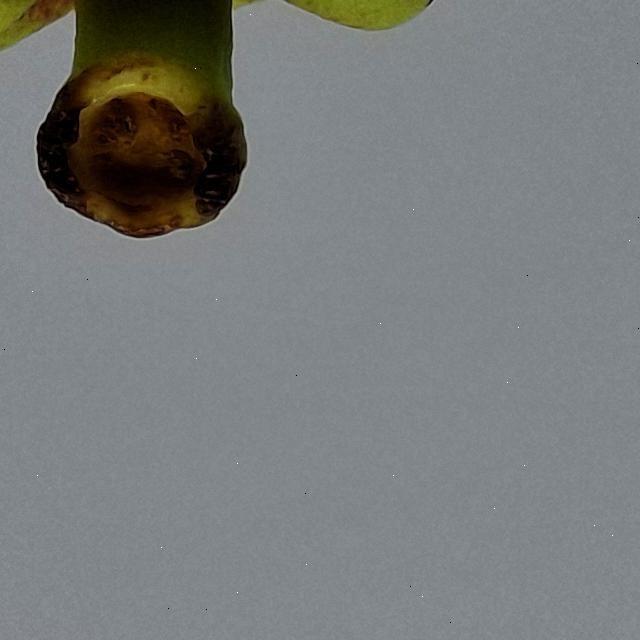mangosteen: (0, 0, 640, 370)
